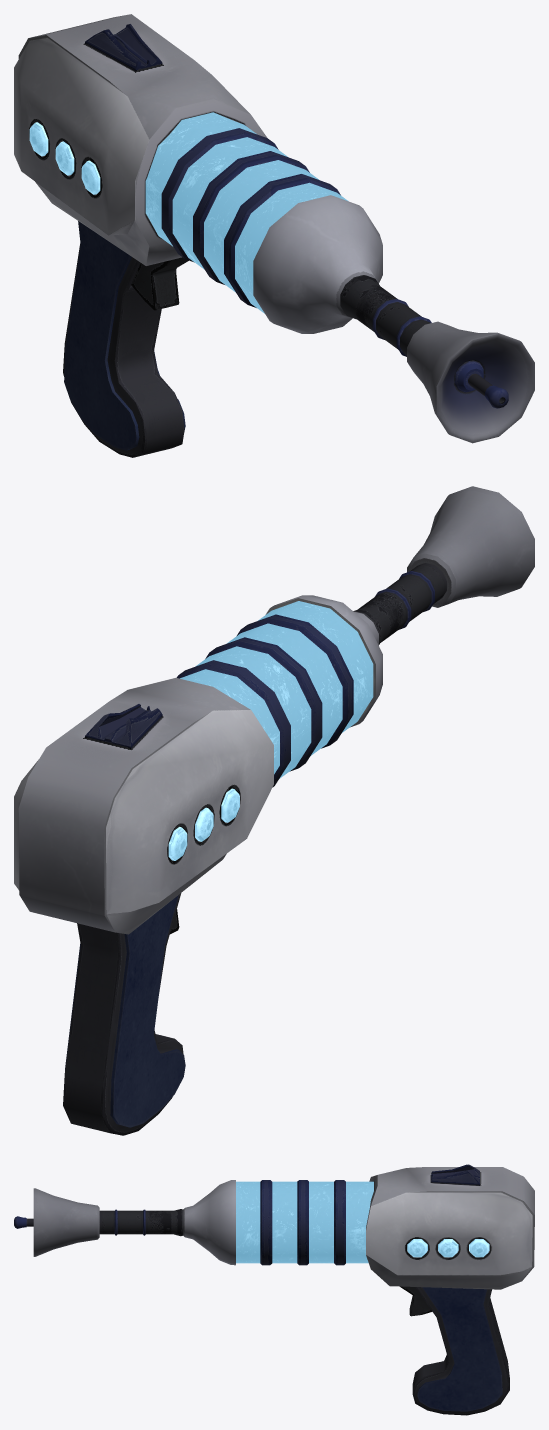
The model's file is bounce_laser.gltf.
3 views of the same model, one above another, from view 1: azimuth 30°, elevation 25°; view 2: azimuth 150°, elevation 25°; view 3: azimuth 270°, elevation 25° (orthographic). The views are drawn at different scales.
Visible parts, largest first — view 1: Ray Barrel, Ray Base, Ray Grip, Iron Sights, Trigger; view 2: Ray Base, Ray Barrel, Ray Grip, Iron Sights; view 3: Ray Barrel, Ray Base, Ray Grip, Iron Sights, Trigger.
Boxes of the visible parts, x1,y1,x2,y2 form: Ray Barrel: (145,112,534,443); Ray Base: (14,14,267,265); Ray Grip: (63,221,185,457); Iron Sights: (85,24,162,71); Trigger: (131,257,188,310); Ray Base: (14,678,273,934); Ray Barrel: (176,486,534,787); Ray Grip: (63,893,185,1135); Iron Sights: (85,704,162,749); Ray Barrel: (14,1180,373,1265); Ray Base: (366,1167,534,1289); Ray Grip: (412,1287,509,1415); Iron Sights: (431,1164,479,1185); Trigger: (399,1286,432,1316).
Bounding box in the file's own units: 79.23 × 208 × 405.
Materials: 2 (2 with a texture image).
